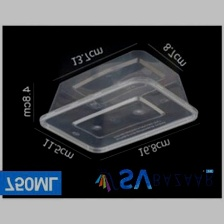plastic_box: (34, 45, 204, 158)
